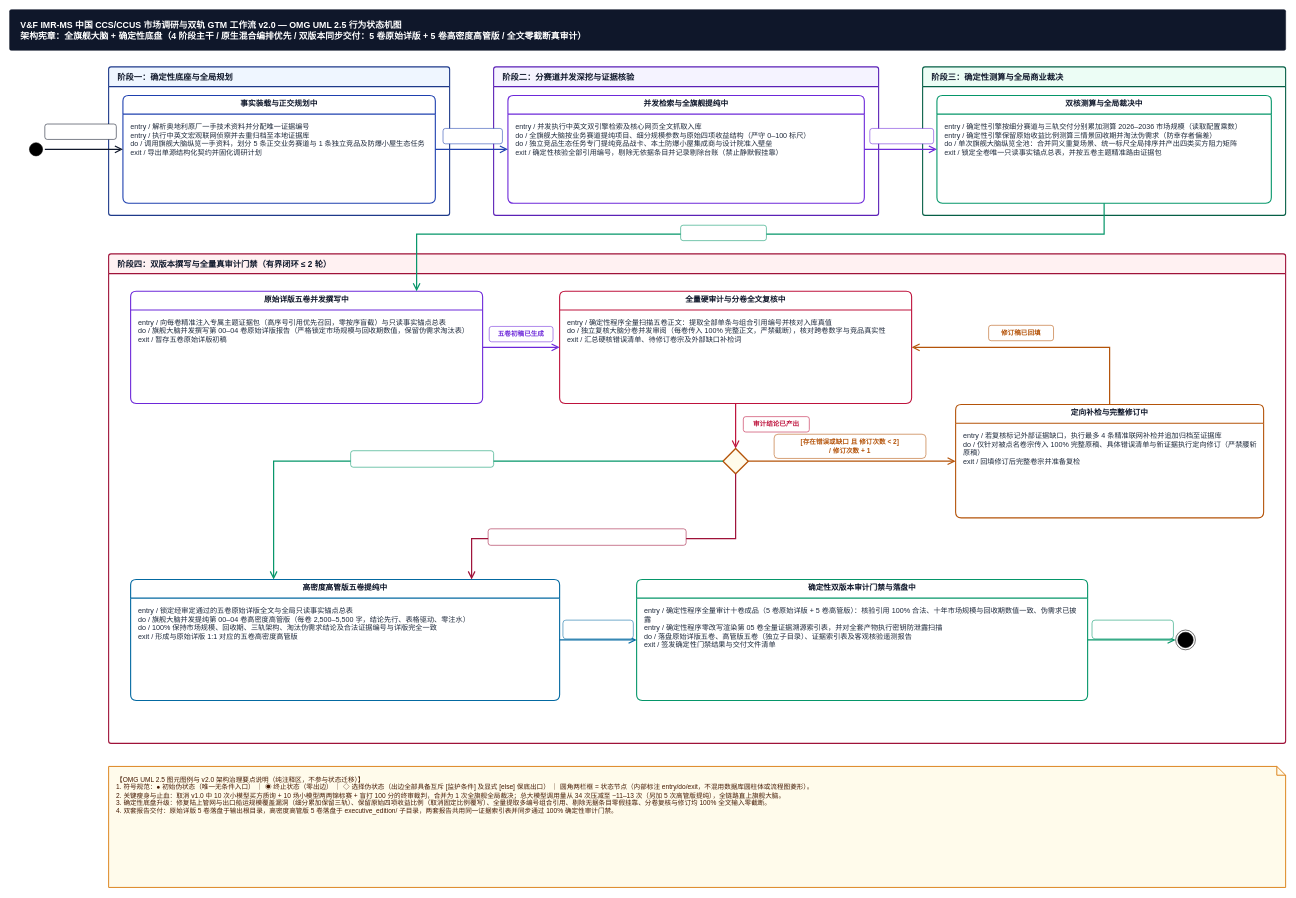
Image size: 1296x898. Some labels were removed from this diagram. The centre of each missing label's shape, as x and y in pixels:
"/ 初始化运行任务" goes at point 80,131.
"/ 输出双版本十卷与遥测" goes at point 1132,629.
"[else：达到修订上限(2次)] / 标记未闭环风险清单" goes at point 587,536.
"[全量硬审计与分卷复核全部通过]" goes at point 422,458.
"事实锚点总表已锁定" goes at point 723,233.
"各赛道核验完成" goes at point 901,136.
"调研计划已固化" goes at point 472,136.
"高管版五卷已提纯" goes at point 597,629.
